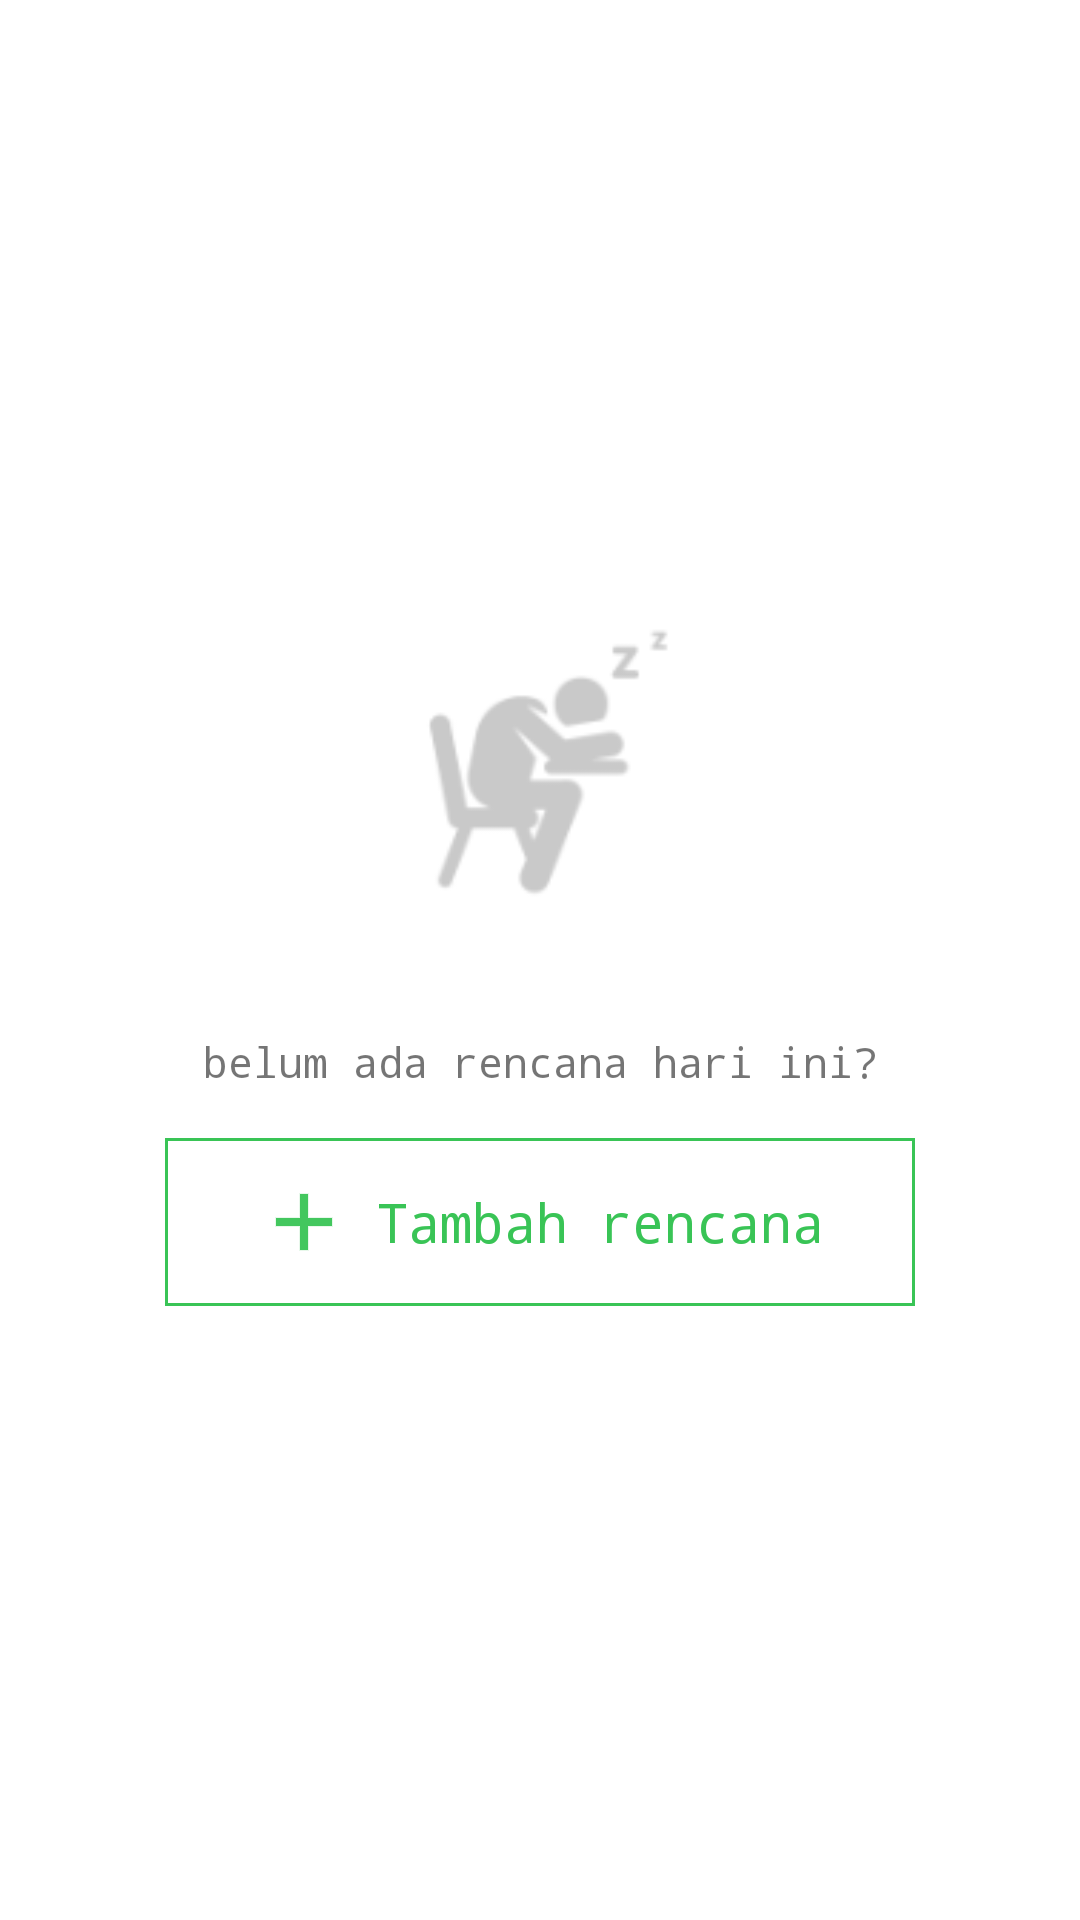

Where to tap for icons on this 1080*1920 app screen, as (x=x, y=y):
add: (x=304, y=1222)
sleep: (x=548, y=762)
